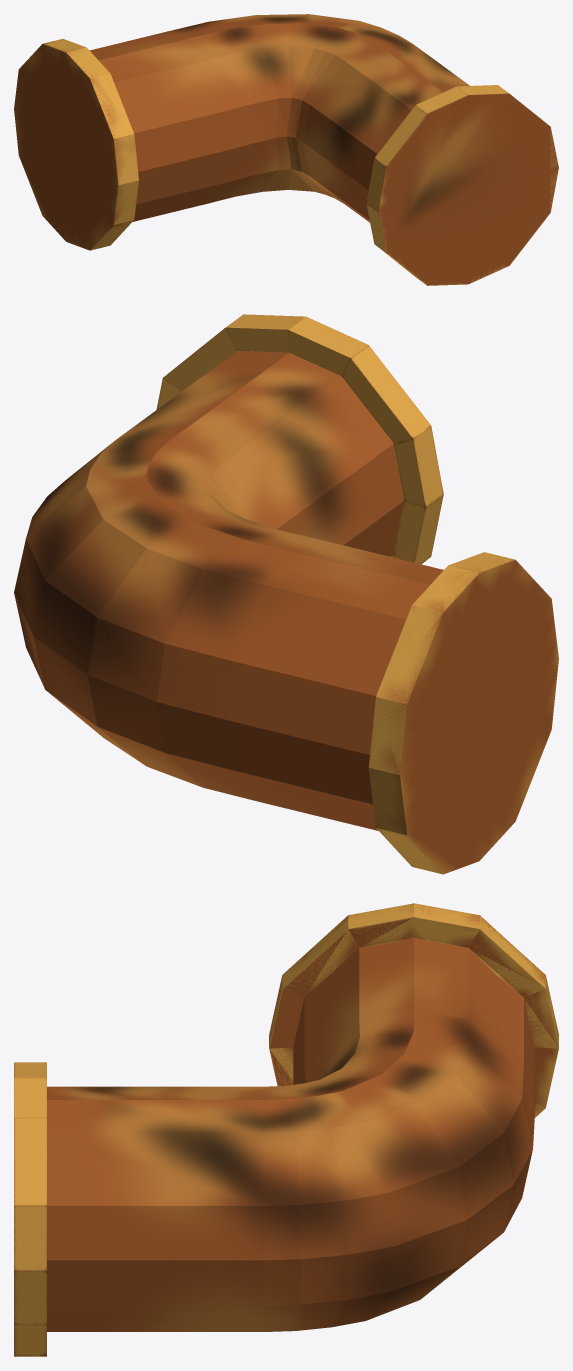
File: pipe2.obj
The picture shows the model from 3 angles, top to bottom: view 1: azimuth 30°, elevation 25°; view 2: azimuth 150°, elevation 25°; view 3: azimuth 270°, elevation 25°; orthographic projection. The views are drawn at different scales.
Parts seen in each view (by area): view 1: 立方体.001; view 2: 立方体.001; view 3: 立方体.001.
Boxes of the visible parts, x1,y1,x2,y2 form: 立方体.001: (14,14,558,285); 立方体.001: (14,314,558,874); 立方体.001: (14,903,558,1356).
Size of the model in its own units: 2.03 by 1.06 by 1.99.
